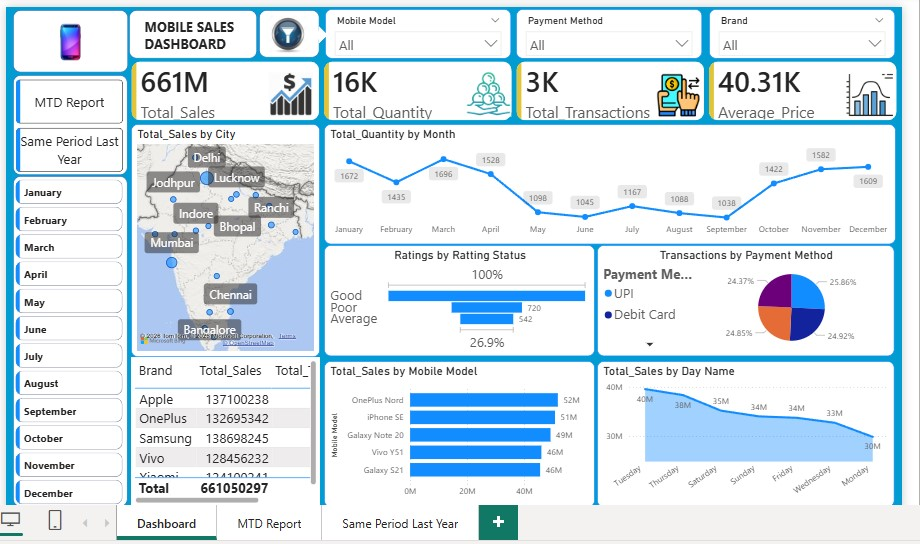

What the dashboard file says about the page in this screenshot:
{"tool":"powerbi","page":{"name":"Dashboard","canvas":[1280,720],"ordinal":0},"visuals":[{"type":"shape","box":[9.9,4.3,164.4,89.3],"z":0},{"type":"image","box":[19,6,147,92],"z":1000},{"type":"shape","box":[10.1,97.1,163.8,143],"z":2000},{"type":"shape","box":[10.1,242,163.8,472.5],"z":3000},{"type":"advancedSlicerVisual","fields":{"Values":["Custom_Calender.Date.Variation.Date Hierarchy.Month"]},"box":[8.7,241.7,163.8,478.3],"z":4000},{"type":"cardVisual","fields":{"Data":["Sales_Data.Total_Sales","Sales_Data.Total_Quantity","Sales_Data.Total_Transactions","Sales_Data.Average_Price"]},"box":[174.3,72.3,1105.5,95],"z":5000},{"type":"image","box":[369.9,93.5,73.7,63.8],"z":6000},{"type":"image","box":[653.4,92.1,73.7,65.2],"z":7000},{"type":"image","box":[928.3,86.5,63.8,78],"z":8000},{"type":"image","box":[1192,90.7,85,70.9],"z":9000},{"type":"slicer","fields":{"Values":["Sales_Data.Mobile Model"]},"box":[456.4,2.8,266.5,70.9],"z":10000},{"type":"slicer","fields":{"Values":["Sales_Data.Payment Method"]},"box":[728.5,2.8,266.5,70.9],"z":11000},{"type":"slicer","fields":{"Values":["Sales_Data.Brand"]},"box":[1004.9,2.8,266.5,70.9],"z":12000},{"type":"shape","box":[361.4,4.3,86.5,68],"z":13000},{"type":"image","box":[364.3,9.9,76.5,56.7],"z":14000},{"type":"shape","box":[426.6,26.9,32.6,25.5],"z":15000},{"type":"shape","box":[175.7,4.3,183,69.4],"z":16000},{"type":"textbox","box":[192.8,9.9,150.2,59.5],"z":17000},{"type":"map","fields":{"Category":["Sales_Data.City"],"Size":["Sales_Data.Total_Sales"]},"box":[178.3,166.7,269.6,333.3],"z":18000},{"type":"lineChart","fields":{"Category":["Custom_Calender.Date.Variation.Date Hierarchy.Month"],"Y":["Sales_Data.Total_Quantity"]},"box":[453.6,166.7,817.4,172.5],"z":19000},{"type":"funnel","title":"Ratings by Ratting Status","fields":{"Y":["CountNonNull(Sales_Data.Customer Ratings)"],"Category":["Sales_Data.Ratting Status"]},"box":[453.6,340.6,387,159.4],"z":20000},{"type":"pieChart","title":"Transactions by Payment Method","fields":{"Category":["Sales_Data.Payment Method"],"Y":["CountNonNull(Sales_Data.Transaction ID)"]},"box":[844.9,340.6,424.6,159.4],"z":21000},{"type":"clusteredBarChart","fields":{"Y":["Sales_Data.Total_Sales"],"Category":["Sales_Data.Mobile Model"]},"box":[453.6,505.8,387,208.7],"z":22000},{"type":"areaChart","fields":{"Category":["Custom_Calender.Day Name"],"Y":["Sales_Data.Total_Sales"]},"box":[844.9,505.8,424.6,208.7],"z":23000},{"type":"tableEx","fields":{"Values":["Sales_Data.Brand","Sales_Data.Total_Sales","Sales_Data.Total_Transactions"]},"box":[178,500,270,214],"z":24000},{"type":"pageNavigator","box":[14,98,153,137],"z":24001}]}

Visuals, with their boxes on the page's 1280x720 design canvas (x1, y1, x2, y2). These are canvas units, not pixel positions in the 920x544 screenshot, which may show the page scaled, cropped or inside an application window:
shape: [x1=10, y1=4, x2=174, y2=94]
image: [x1=19, y1=6, x2=166, y2=98]
shape: [x1=10, y1=97, x2=174, y2=240]
shape: [x1=10, y1=242, x2=174, y2=714]
advancedSlicerVisual - Custom_Calender.Date.Variation.Date Hierarchy.Month: [x1=9, y1=242, x2=172, y2=720]
cardVisual - Sales_Data.Total_Sales x Sales_Data.Total_Quantity: [x1=174, y1=72, x2=1280, y2=167]
image: [x1=370, y1=94, x2=444, y2=157]
image: [x1=653, y1=92, x2=727, y2=157]
image: [x1=928, y1=86, x2=992, y2=164]
image: [x1=1192, y1=91, x2=1277, y2=162]
slicer - Sales_Data.Mobile Model: [x1=456, y1=3, x2=723, y2=74]
slicer - Sales_Data.Payment Method: [x1=728, y1=3, x2=995, y2=74]
slicer - Sales_Data.Brand: [x1=1005, y1=3, x2=1271, y2=74]
shape: [x1=361, y1=4, x2=448, y2=72]
image: [x1=364, y1=10, x2=441, y2=67]
shape: [x1=427, y1=27, x2=459, y2=52]
shape: [x1=176, y1=4, x2=359, y2=74]
textbox: [x1=193, y1=10, x2=343, y2=69]
map - Sales_Data.City x Sales_Data.Total_Sales: [x1=178, y1=167, x2=448, y2=500]
lineChart - Custom_Calender.Date.Variation.Date Hierarchy.Month x Sales_Data.Total_Quantity: [x1=454, y1=167, x2=1271, y2=339]
"Ratings by Ratting Status" funnel: [x1=454, y1=341, x2=841, y2=500]
"Transactions by Payment Method" pieChart: [x1=845, y1=341, x2=1270, y2=500]
clusteredBarChart - Sales_Data.Total_Sales x Sales_Data.Mobile Model: [x1=454, y1=506, x2=841, y2=714]
areaChart - Custom_Calender.Day Name x Sales_Data.Total_Sales: [x1=845, y1=506, x2=1270, y2=714]
tableEx - Sales_Data.Brand x Sales_Data.Total_Sales: [x1=178, y1=500, x2=448, y2=714]
pageNavigator: [x1=14, y1=98, x2=167, y2=235]
